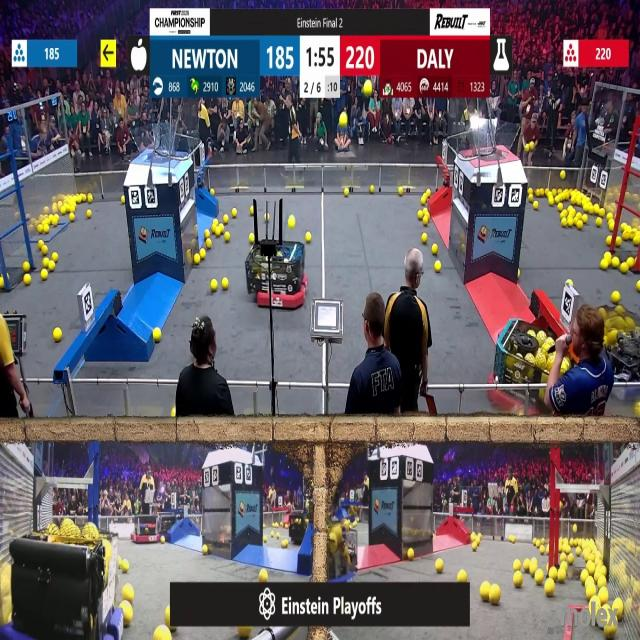ball_airborne: (363, 83, 371, 98), (341, 115, 349, 129)
ball_ground: (489, 586, 501, 606), (125, 607, 134, 628), (481, 584, 491, 602), (604, 625, 616, 640), (514, 571, 524, 586), (544, 581, 553, 597), (125, 586, 134, 602), (154, 628, 167, 639), (534, 570, 544, 584), (598, 590, 608, 604), (258, 568, 267, 582), (586, 586, 595, 600), (152, 328, 160, 342), (558, 569, 566, 583), (458, 570, 467, 582), (54, 328, 62, 341), (120, 560, 128, 573), (611, 290, 619, 302), (610, 256, 618, 268), (435, 560, 442, 573), (579, 570, 586, 582), (550, 567, 557, 579), (621, 265, 629, 275), (288, 215, 294, 228), (211, 280, 218, 291), (408, 550, 415, 561), (601, 261, 608, 272), (221, 279, 228, 290), (25, 275, 32, 286), (515, 560, 522, 571), (530, 559, 537, 570), (524, 560, 530, 572), (434, 263, 441, 273), (41, 270, 48, 280), (42, 257, 49, 267), (628, 258, 635, 268), (635, 404, 640, 418), (431, 244, 437, 255), (422, 234, 428, 245), (192, 255, 199, 264), (41, 247, 48, 256), (249, 234, 255, 244), (24, 264, 30, 274), (596, 217, 602, 227), (201, 249, 207, 259), (422, 215, 428, 225), (608, 220, 614, 230), (634, 237, 640, 247), (568, 555, 574, 565), (594, 205, 600, 215), (50, 252, 57, 260), (635, 280, 640, 291), (48, 263, 54, 272), (576, 220, 582, 229), (206, 240, 212, 249), (421, 198, 427, 207), (558, 203, 564, 212), (568, 207, 574, 216), (204, 543, 209, 553), (307, 234, 312, 244), (539, 544, 544, 554), (0, 277, 4, 289), (617, 238, 623, 246), (368, 185, 374, 193), (547, 198, 553, 206), (282, 540, 288, 548), (534, 202, 540, 210), (205, 231, 211, 239), (528, 193, 534, 201), (397, 187, 403, 195), (560, 172, 566, 180), (212, 218, 218, 226), (233, 209, 238, 218), (70, 213, 75, 222), (223, 215, 228, 224), (562, 218, 567, 227), (584, 214, 589, 223), (606, 237, 611, 246), (89, 193, 94, 202), (172, 410, 177, 419), (604, 252, 610, 259), (560, 554, 566, 561), (224, 233, 228, 243), (88, 210, 93, 218), (418, 211, 423, 219), (567, 218, 572, 226), (44, 224, 49, 232), (265, 538, 270, 546), (535, 188, 540, 196), (511, 536, 517, 542), (162, 536, 167, 543), (532, 538, 537, 545), (250, 207, 254, 215), (120, 197, 124, 205), (472, 542, 476, 550), (345, 188, 349, 196), (216, 230, 220, 238), (36, 239, 40, 247), (211, 188, 215, 195), (528, 187, 532, 194), (277, 535, 281, 541)
goal: (465, 121, 521, 160), (130, 130, 188, 161)
robot_blue: (8, 528, 121, 640), (602, 303, 640, 399)
robot_red: (486, 322, 558, 414), (246, 241, 308, 309), (133, 515, 158, 543)
